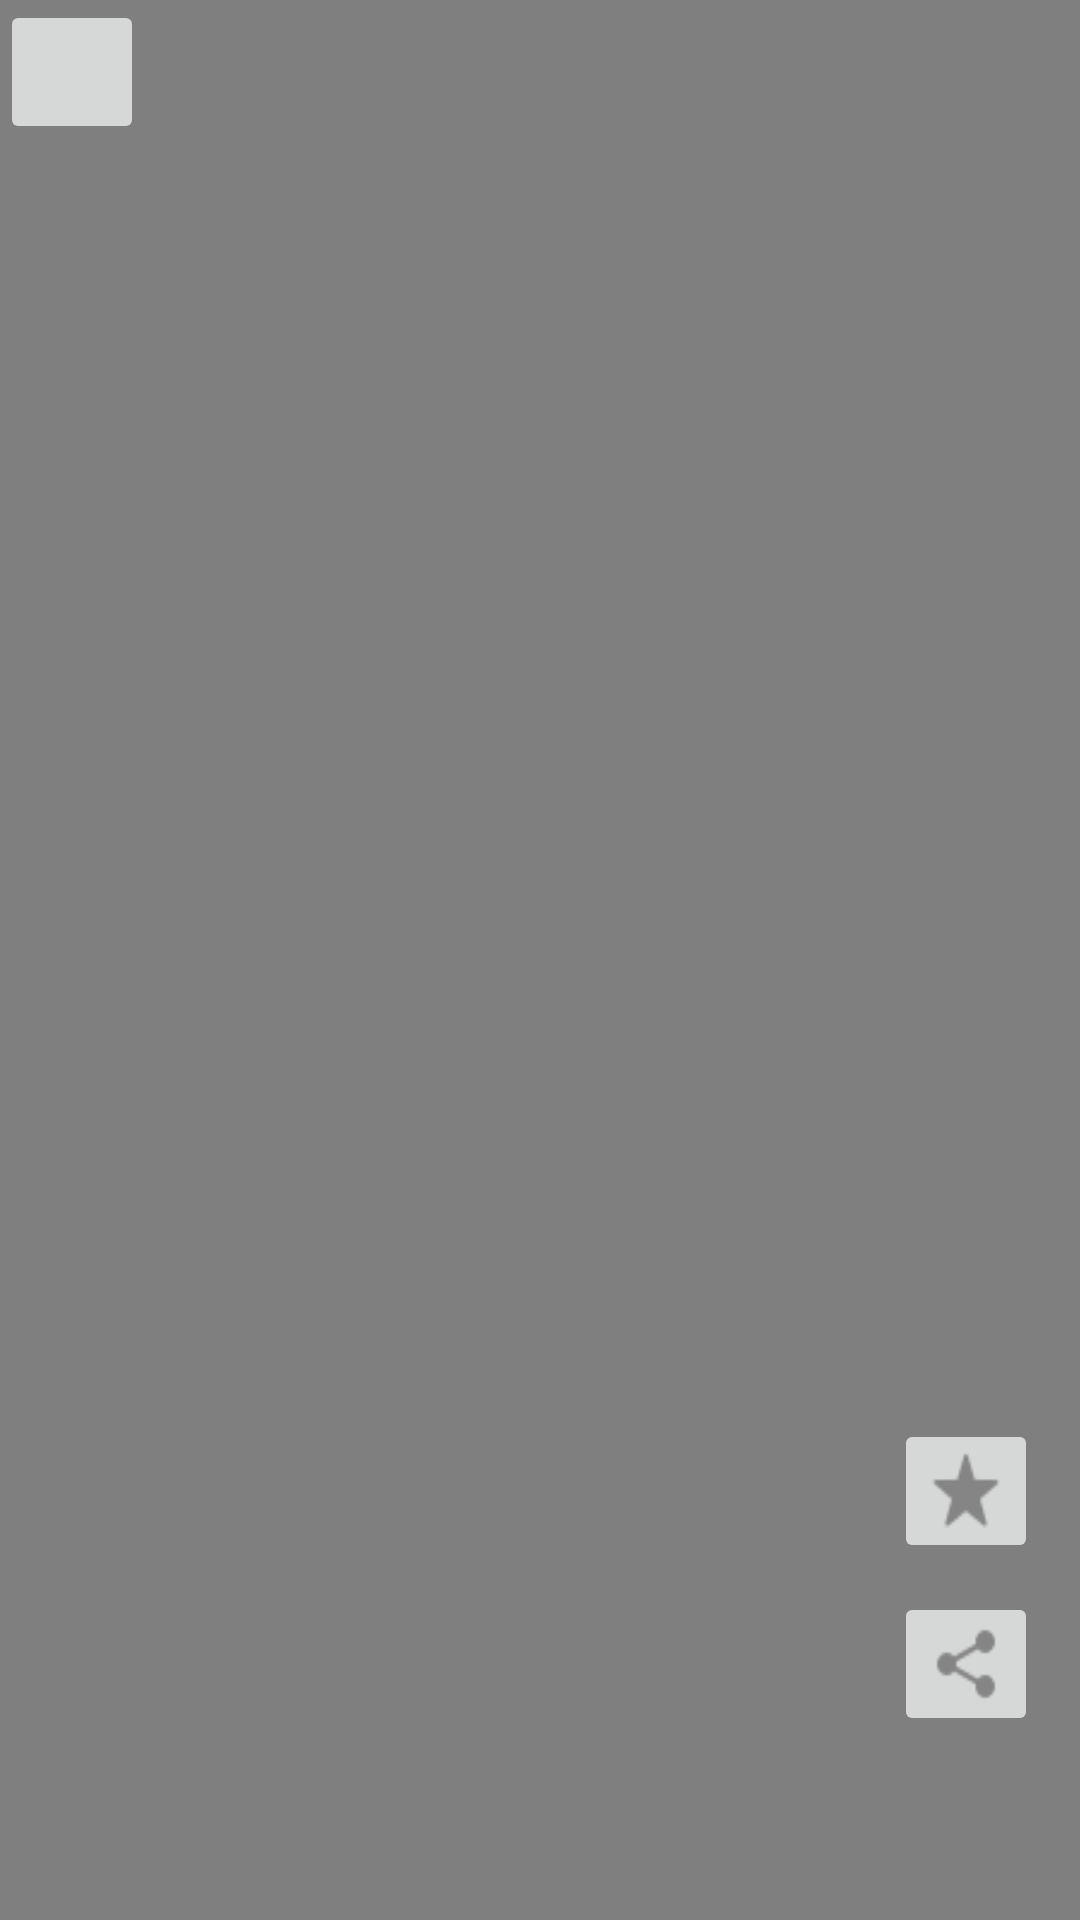

Screen size 1080w x 1920h. Icon name, then its center in pixels as (x,y):
share: (966,1664)
star: (966,1491)
